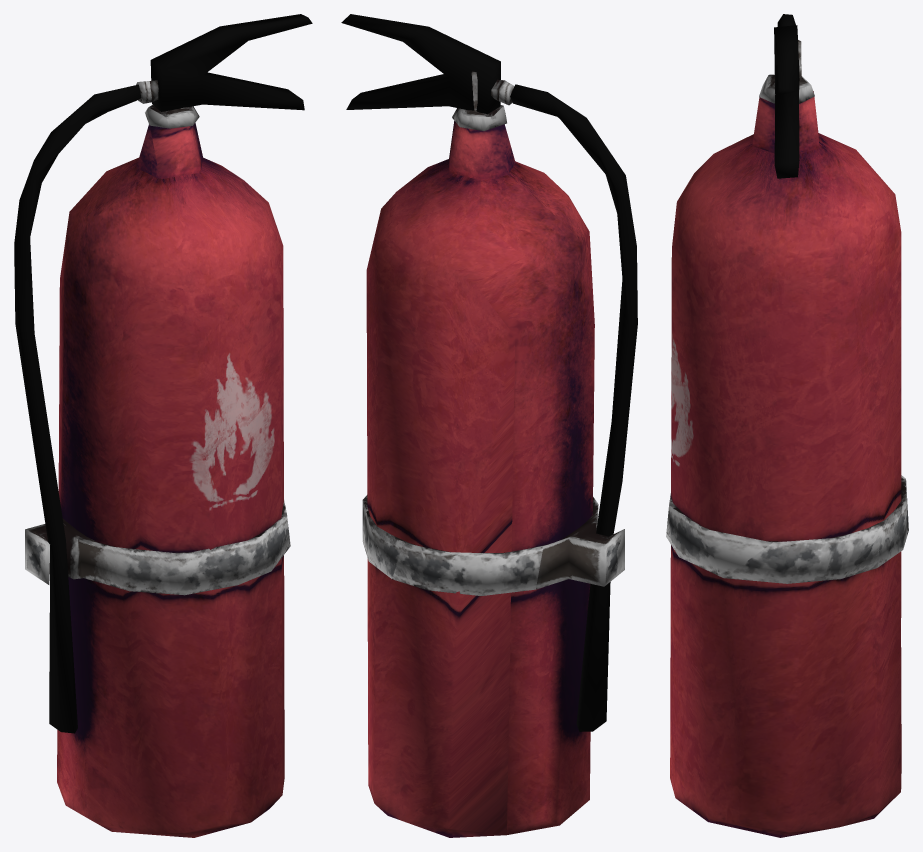
Rendered from FireExtinguisher.fbx.
3 views of the same model, side by side, from view 1: azimuth 30°, elevation 25°; view 2: azimuth 150°, elevation 25°; view 3: azimuth 270°, elevation 25° (orthographic). The views are drawn at different scales.
Visible parts, largest first — view 1: LP.002; view 2: LP.002; view 3: LP.002.
Boxes of the visible parts, bbox=[...] form: LP.002: bbox=[14, 14, 312, 837]; LP.002: bbox=[341, 14, 637, 837]; LP.002: bbox=[666, 14, 908, 837].
Size of the model in its own units: 56.81 by 139 by 39.45.
